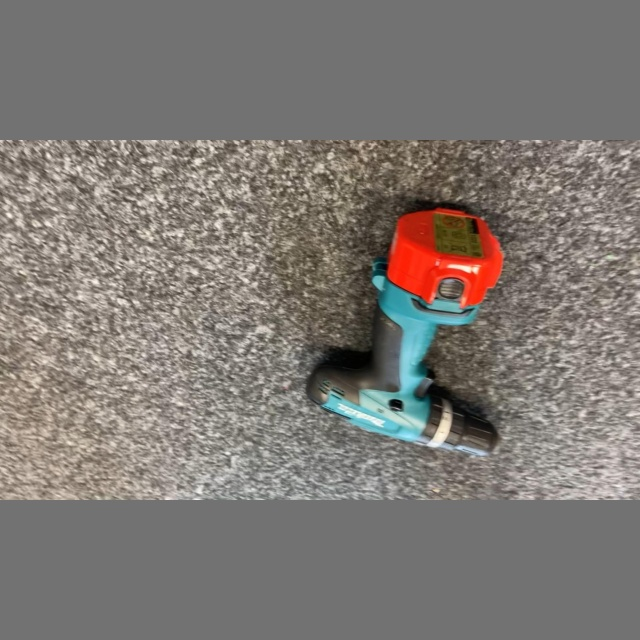drill: (294, 199, 512, 466)
